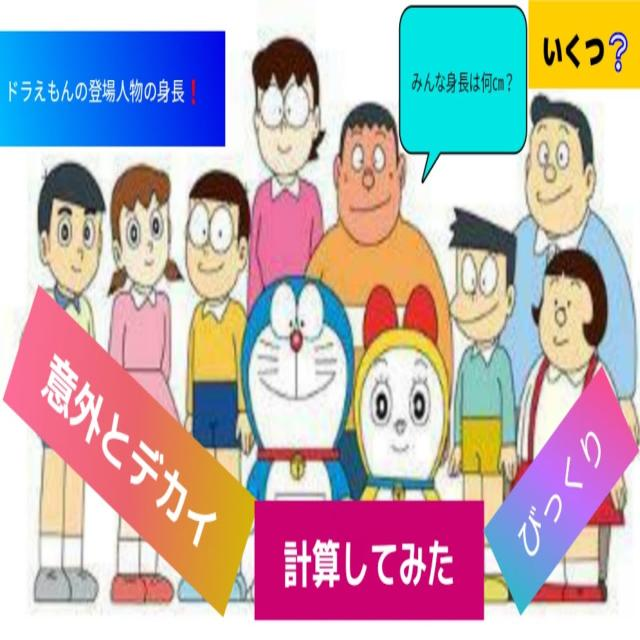doraemon: (238, 262, 366, 516)
jaian: (318, 87, 422, 272)
nobita: (183, 160, 259, 340)
shizuka: (95, 154, 195, 346)
suneo: (436, 195, 530, 377)
